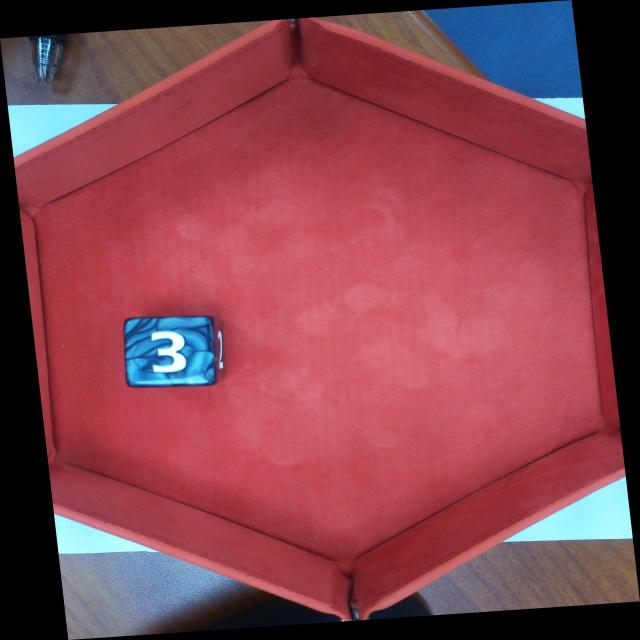dice: (122, 315, 217, 387)
